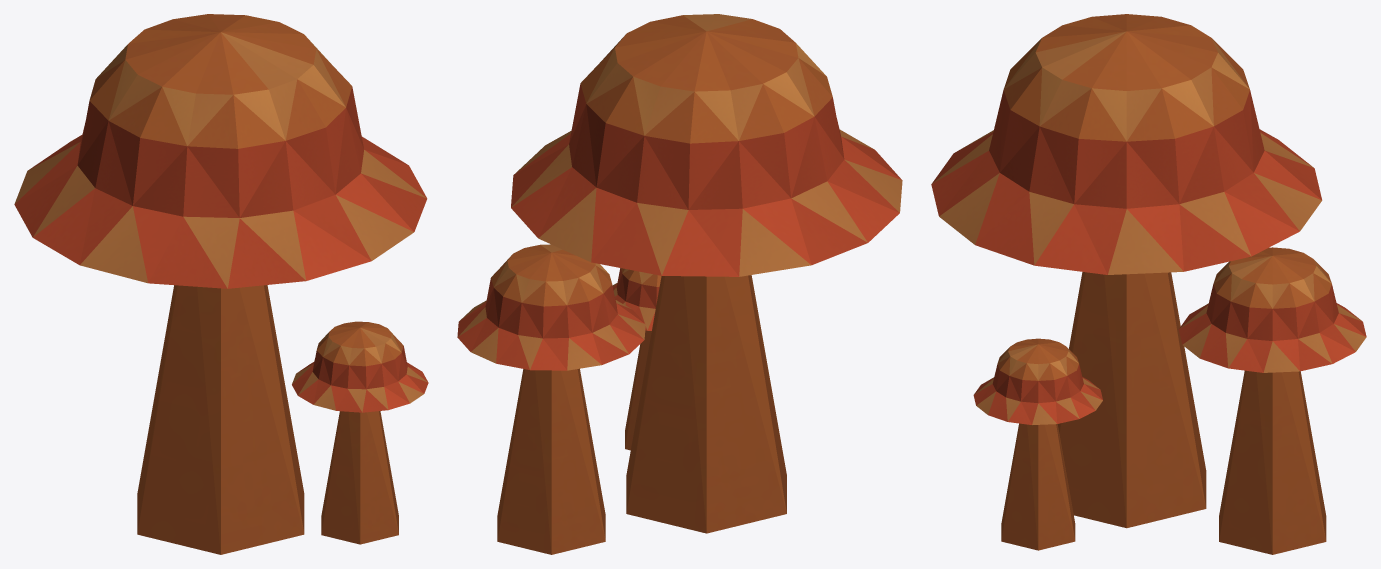
The model's file is Mushroom_Gr_2C.fbx.
The picture shows the model from 3 angles, left to right: view 1: azimuth 30°, elevation 25°; view 2: azimuth 150°, elevation 25°; view 3: azimuth 270°, elevation 25°; orthographic projection. The views are drawn at different scales.
Visible parts, largest first — view 1: polySurface700; view 2: polySurface700; view 3: polySurface700.
Boxes of the visible parts, x1=… form: polySurface700: x1=14, y1=14, x2=428, y2=554; polySurface700: x1=457, y1=14, x2=902, y2=554; polySurface700: x1=931, y1=14, x2=1366, y2=554.
Size of the model in its own units: 118 by 153 by 132.
1 material, 1 textured.
